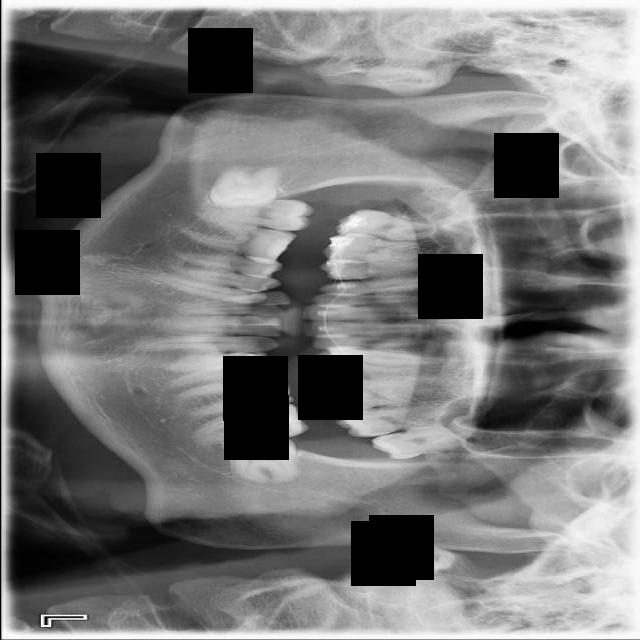52: (240, 216, 297, 274), (241, 360, 295, 415)
73: (63, 593, 73, 597)
BioHorizons Implant: (333, 399, 456, 442)
BioLife Implant: (370, 423, 477, 462)
Biomet 3i Implant: (226, 434, 301, 484)
Blue Sky Bio Implant: (189, 401, 310, 445)
Caries: (335, 206, 460, 245)
Implant: (203, 197, 314, 232)
Keystone Dental Implant: (208, 166, 282, 208)
